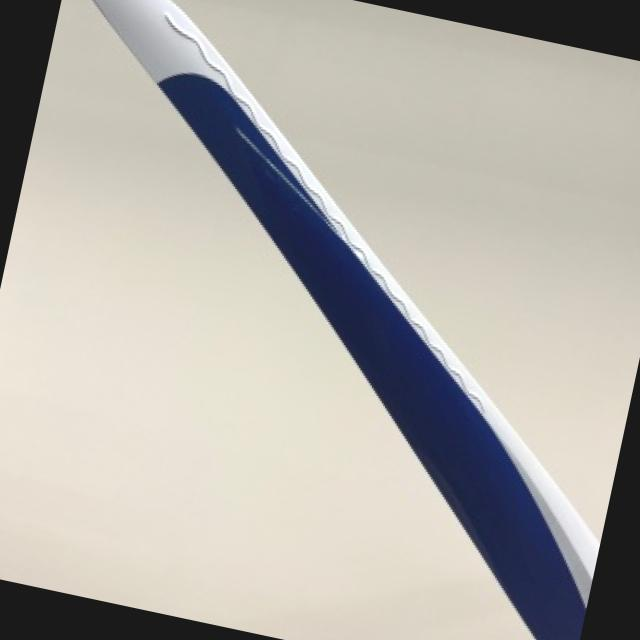healthy: (0, 439, 131, 594)
